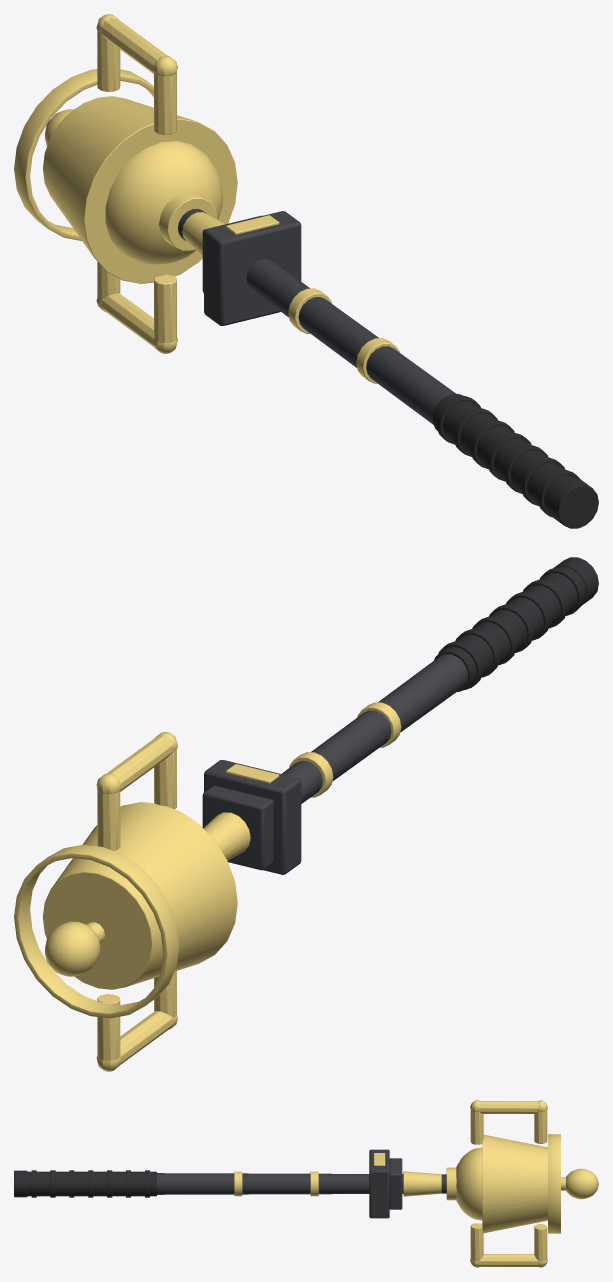
File: mazo_trofeo.glb
The picture shows the model from 3 angles, top to bottom: view 1: azimuth 30°, elevation 25°; view 2: azimuth 150°, elevation 25°; view 3: azimuth 270°, elevation 25°; orthographic projection. The views are drawn at different scales.
Parts seen in each view (by area): view 1: mazo_trofeo; view 2: mazo_trofeo; view 3: mazo_trofeo.
Part boxes in pixels (left/top/right/bottom): mazo_trofeo: left=14, top=14, right=598, bottom=528; mazo_trofeo: left=14, top=557, right=598, bottom=1071; mazo_trofeo: left=14, top=1100, right=598, bottom=1267.
Size of the model in its own units: 0.196 by 0.36 by 1.15.
